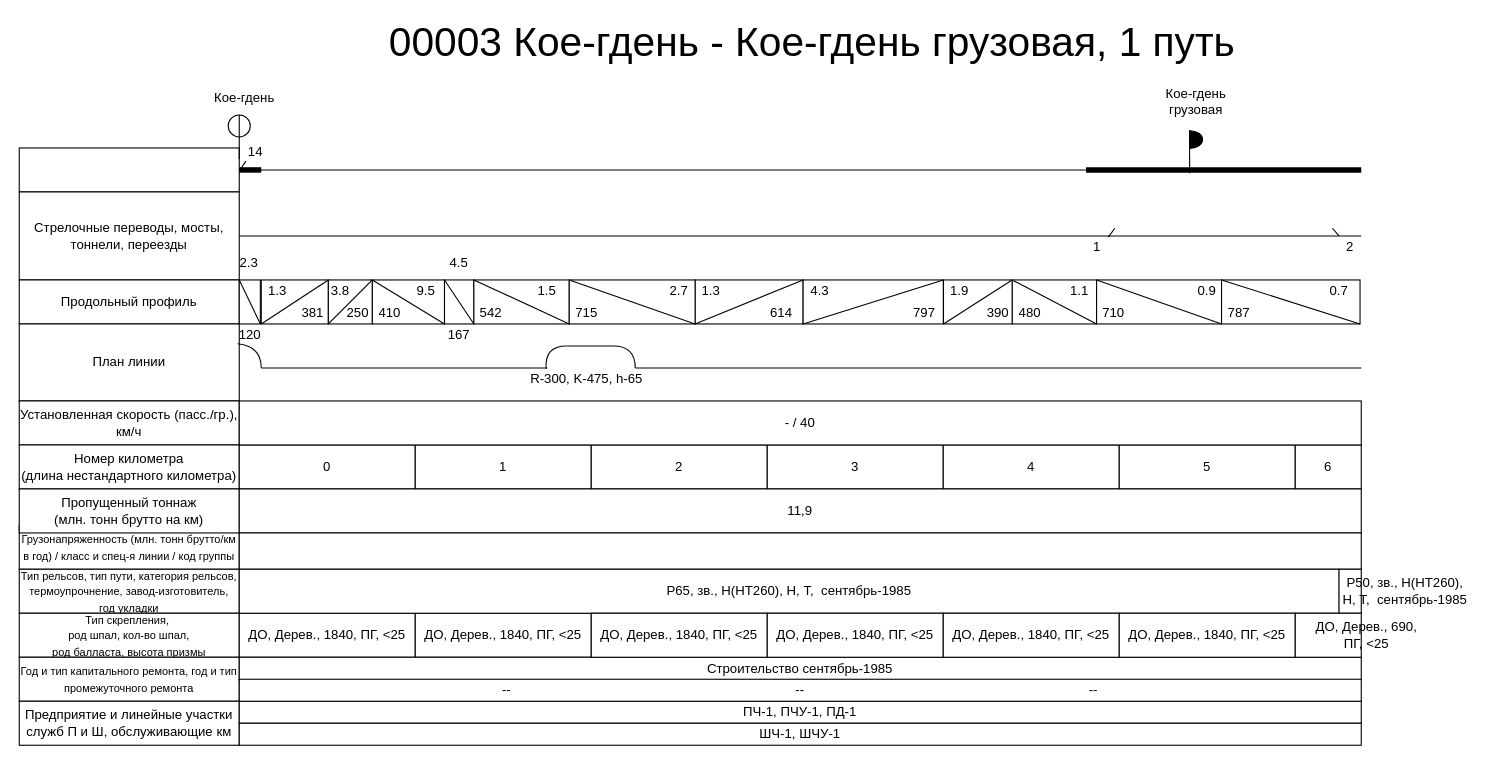
Image size: 1491x776. Some labels were removed from this diagram. Here are the shapes that lost their labels. From the top down, the centre of each, then its label:
At [128,169]: "Раздельные пункты".
At [799,550]: "0,3 / 4Г / 4V".
